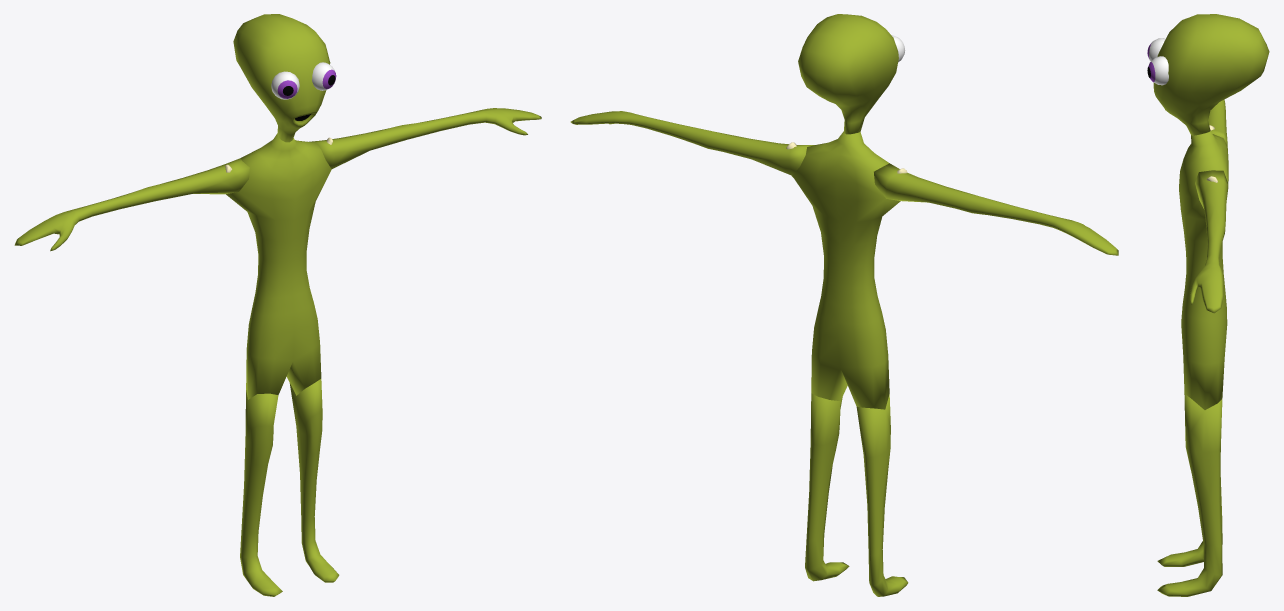
The model's file is Alien_Parts.fbx.
The picture shows the model from 3 angles, left to right: view 1: azimuth 30°, elevation 25°; view 2: azimuth 150°, elevation 25°; view 3: azimuth 270°, elevation 25°; orthographic projection. The views are drawn at different scales.
Visible parts, largest first — view 1: alien-ufo_parts, alien-ufo_parts.003, alien-ufo_parts.005, alien-ufo_parts.002, alien-ufo_parts.004, alien-ufo_parts.001; view 2: alien-ufo_parts, alien-ufo_parts.003, alien-ufo_parts.002, alien-ufo_parts.004, alien-ufo_parts.005, alien-ufo_parts.001; view 3: alien-ufo_parts.003, alien-ufo_parts, alien-ufo_parts.004, alien-ufo_parts.001, alien-ufo_parts.005, alien-ufo_parts.002.
Part boxes in pixels (x1=…): alien-ufo_parts: x1=225, y1=134, x2=332, y2=399; alien-ufo_parts.003: x1=233, y1=14, x2=336, y2=142; alien-ufo_parts.005: x1=240, y1=390, x2=282, y2=596; alien-ufo_parts.002: x1=14, y1=158, x2=249, y2=251; alien-ufo_parts.004: x1=289, y1=379, x2=339, y2=582; alien-ufo_parts.001: x1=309, y1=108, x2=541, y2=168; alien-ufo_parts: x1=786, y1=131, x2=907, y2=409; alien-ufo_parts.003: x1=798, y1=14, x2=905, y2=134; alien-ufo_parts.002: x1=874, y1=163, x2=1118, y2=255; alien-ufo_parts.004: x1=805, y1=393, x2=849, y2=581; alien-ufo_parts.005: x1=856, y1=394, x2=908, y2=596; alien-ufo_parts.001: x1=570, y1=111, x2=814, y2=175; alien-ufo_parts.003: x1=1147, y1=14, x2=1269, y2=135; alien-ufo_parts: x1=1179, y1=125, x2=1228, y2=409; alien-ufo_parts.004: x1=1157, y1=393, x2=1222, y2=596; alien-ufo_parts.001: x1=1190, y1=170, x2=1227, y2=313; alien-ufo_parts.005: x1=1157, y1=477, x2=1222, y2=566; alien-ufo_parts.002: x1=1208, y1=99, x2=1227, y2=145.
Size of the model in its own units: 191 by 191 by 37.76.
1 material, 1 textured.
